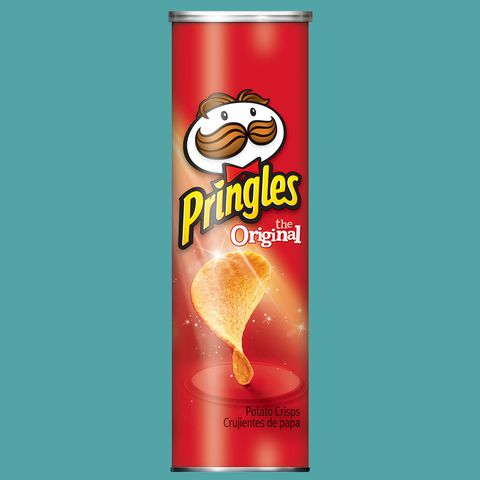pringle: (168, 9, 312, 474)
